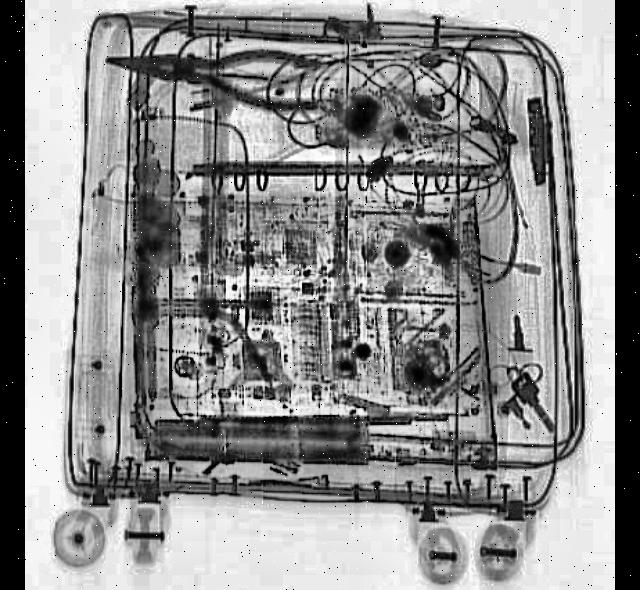Pliers: (105, 28, 322, 114)
